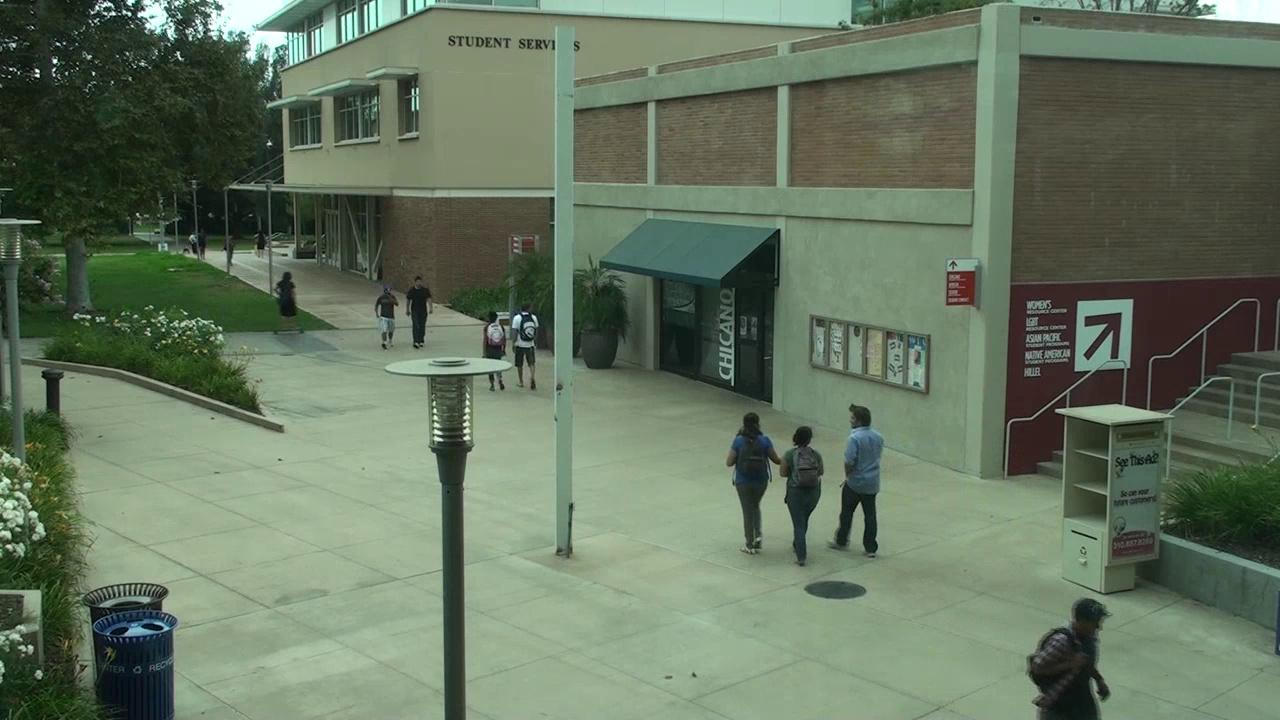person: (1028, 598, 1110, 719), (829, 404, 883, 557), (726, 413, 780, 553), (779, 427, 824, 565), (512, 303, 539, 389), (407, 276, 431, 348), (272, 272, 299, 330), (375, 286, 397, 348), (483, 311, 505, 358), (489, 374, 504, 390)
